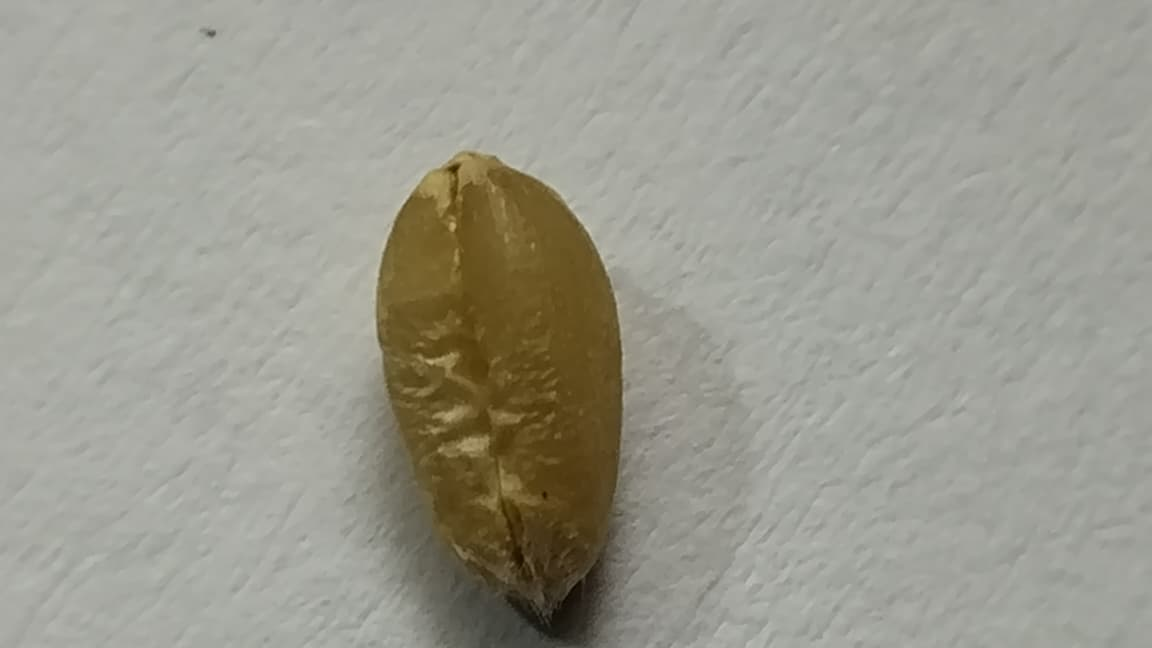healthy: (377, 151, 623, 616)
